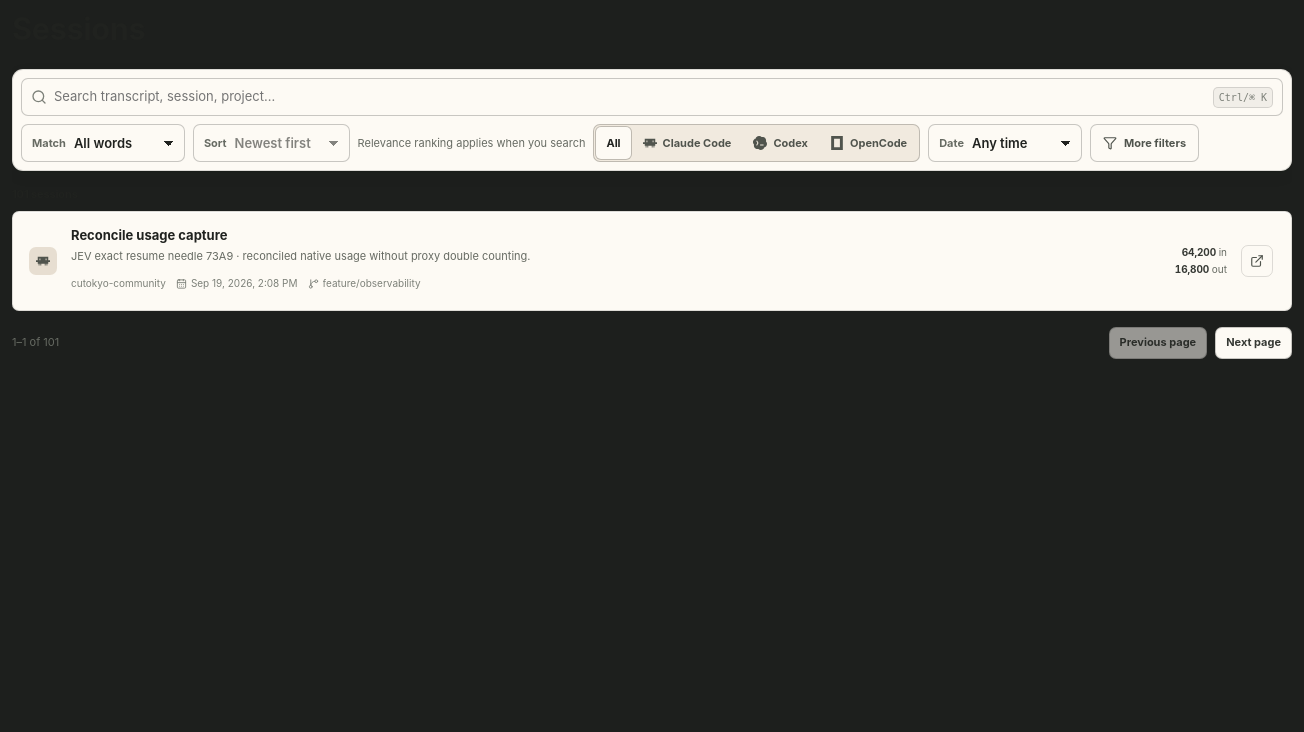
Scenario: session search › keeps stale rows and query on errors, shows the error, and retries the current request
Type "needle" into the search field at (630, 97), box [54,78,1206,116]
Wait 250 ms
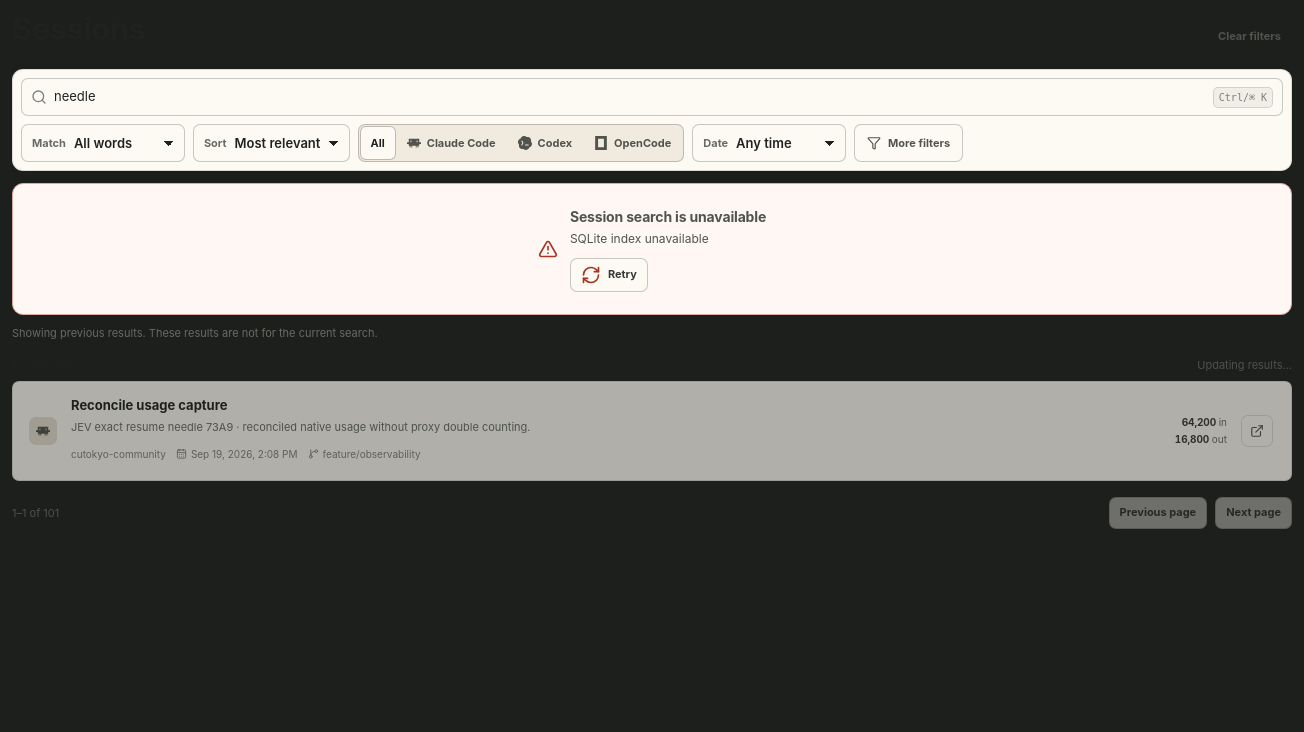
Expected: the link "Reconcile usage capture" is shown, [71,396,227,416]
Now the text "SQLite index unavailable" is shown, box [570,231,709,246]
Now the text "Showing previous results. These results are not for the current search." is shown, box [12,326,378,340]
Click the button "Retry" at (609, 275), box [570,258,648,292]
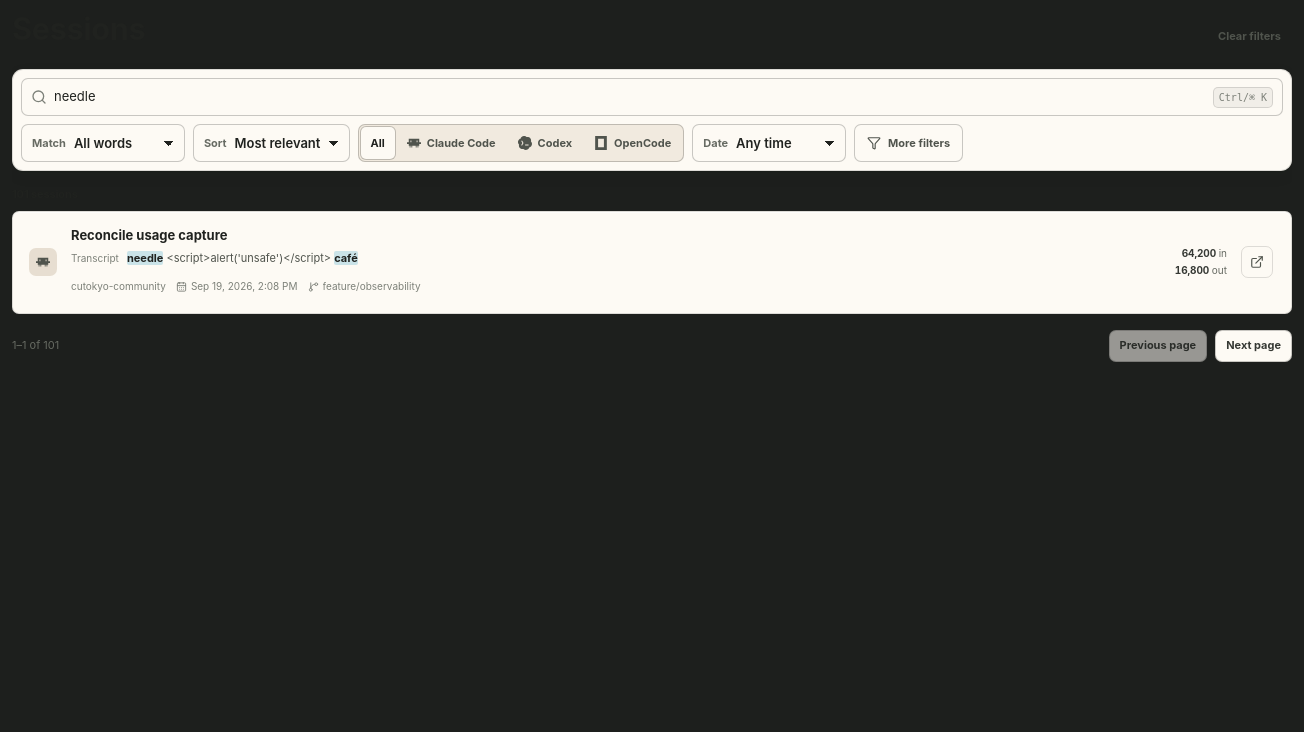
Expected: the text "needle" is shown, [127,251,163,265]
Now the text "SQLite index unavailable" is gone
